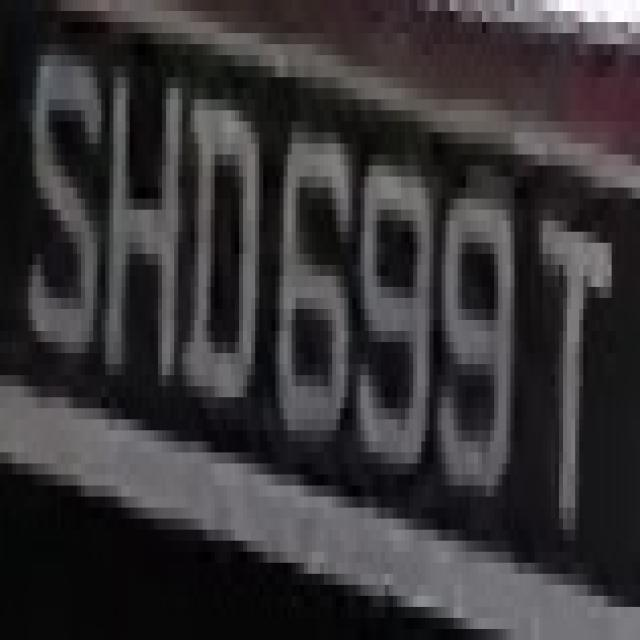6: (272, 88, 352, 474)
9: (426, 110, 522, 552), (352, 122, 442, 474)
D: (178, 110, 255, 442)
H: (106, 33, 194, 430)
S: (24, 22, 106, 408)
T: (522, 165, 612, 540)
